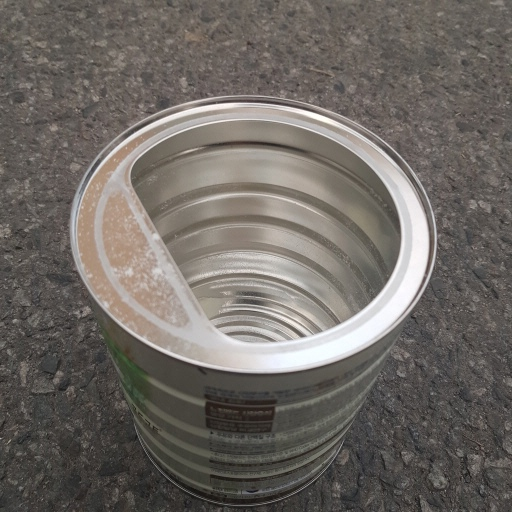Metal_1: (68, 93, 440, 508)
